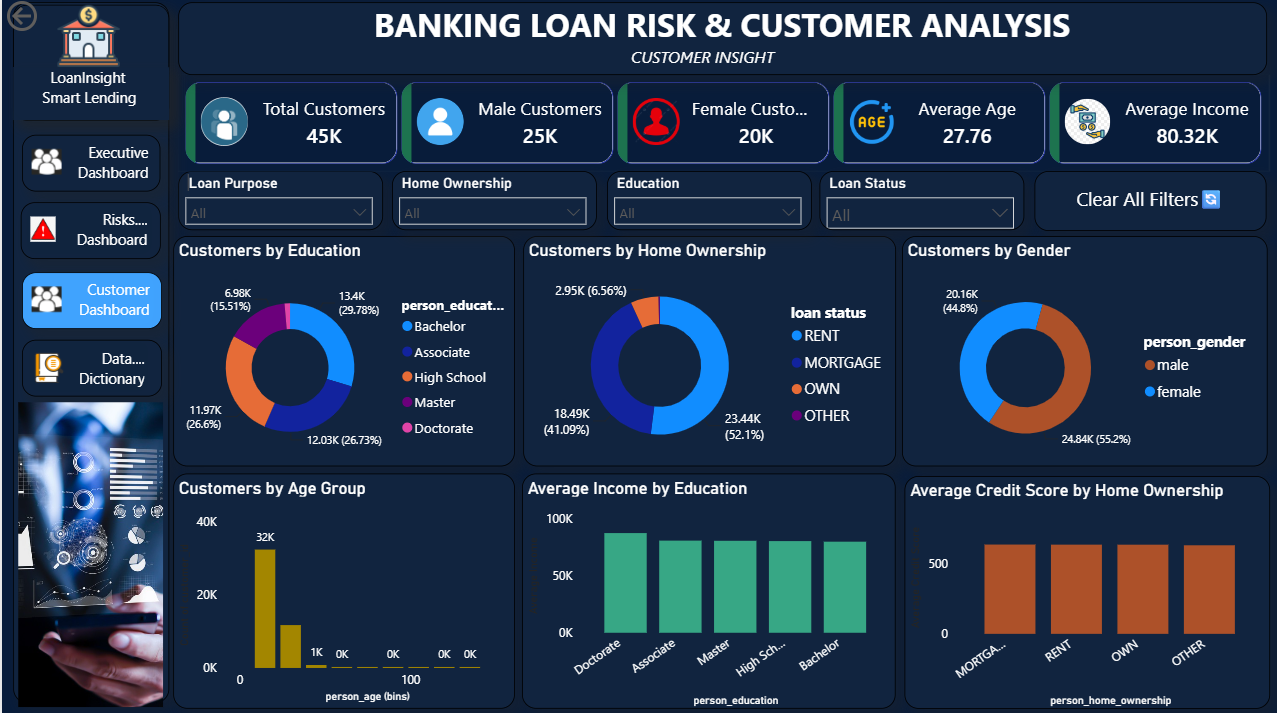

What the dashboard file says about the page in this screenshot:
{"tool":"powerbi","page":{"name":"Customer dashboard","canvas":[1280,720],"ordinal":2},"visuals":[{"type":"slicer","fields":{"Values":["final_loan_analysis.loan_intent"]},"box":[176.1,174.9,205,59.1],"z":0},{"type":"cardVisual","fields":{"Data":["final_loan_analysis.Total Customers","final_loan_analysis.Male Customers","final_loan_analysis.Female Customers","final_loan_analysis.Average Age","final_loan_analysis.Average Income"]},"box":[176.1,78.4,1091.8,96.5],"z":1000},{"type":"shape","box":[10.9,6,155.6,700.9],"z":2000},{"type":"donutChart","title":"Customers by Education","fields":{"Category":["final_loan_analysis.person_education"],"Y":["CountNonNull(final_loan_analysis.customer_id)"]},"box":[171.3,240.1,341.4,230],"z":3000},{"type":"donutChart","title":"Customers by Home Ownership","fields":{"Category":["final_loan_analysis.person_home_ownership"],"Y":["CountNonNull(final_loan_analysis.customer_id)"]},"box":[521.2,240.1,372.8,230.4],"z":4000},{"type":"clusteredColumnChart","title":"Customers by Age Group","fields":{"Y":["CountNonNull(final_loan_analysis.customer_id)"],"Category":["final_loan_analysis.person_age (bins)"]},"box":[171.3,477.8,341.4,235.3],"z":5000},{"type":"slicer","fields":{"Values":["final_loan_analysis.person_home_ownership"]},"box":[389.7,174.9,205,59.1],"z":6000},{"type":"slicer","fields":{"Values":["final_loan_analysis.person_education"]},"box":[604.4,174.9,205.1,59.1],"z":7000},{"type":"slicer","fields":{"Values":["final_loan_analysis.loan_status"]},"box":[818,174.9,205,59.1],"z":8000},{"type":"actionButton","box":[1032.7,174.9,231.6,60.3],"z":9000},{"type":"shape","box":[10.9,8.4,155.6,115.8],"z":10000},{"type":"image","box":[44.6,8.4,83.2,62.7],"z":11000},{"type":"textbox","box":[10.9,71.2,155.6,53.1],"z":12000},{"type":"actionButton","box":[20.5,138.7,138.7,56.7],"z":13000},{"type":"actionButton","box":[19.3,206.3,139.9,56.7],"z":14000},{"type":"actionButton","box":[20.5,276.3,139.9,56.7],"z":15000},{"type":"actionButton","box":[20.5,343.8,139.9,56.7],"z":16000},{"type":"textbox","box":[176.2,6.2,1088.8,72.5],"z":17000},{"type":"image","box":[16.2,406.2,147,305],"z":18000},{"type":"donutChart","title":"Customers by Gender","fields":{"Y":["CountNonNull(final_loan_analysis.customer_id)"],"Category":["final_loan_analysis.person_gender"]},"box":[900,240.1,365.6,230.4],"z":19000},{"type":"clusteredColumnChart","title":"Average Income by Education","fields":{"Category":["final_loan_analysis.person_education"],"Y":["final_loan_analysis.Average Income"]},"box":[520,477.8,374,235.3],"z":20000},{"type":"actionButton","box":[0,0,100,40],"z":21000},{"type":"clusteredColumnChart","title":"Average Credit Score by Home Ownership","fields":{"Category":["final_loan_analysis.person_home_ownership"],"Y":["final_loan_analysis.Average Credit Score"]},"box":[902.4,480.2,365.6,232.8],"z":22000}]}

Visuals, with their boxes on the page's 1280x720 design canvas (x1, y1, x2, y2). These are canvas units, not pixel positions in the 1277x713 screenshot, which may show the page scaled, cropped or inside an application window:
slicer - final_loan_analysis.loan_intent: (176, 175, 381, 234)
cardVisual - final_loan_analysis.Total Customers x final_loan_analysis.Male Customers: (176, 78, 1268, 175)
shape: (11, 6, 166, 707)
"Customers by Education" donutChart: (171, 240, 513, 470)
"Customers by Home Ownership" donutChart: (521, 240, 894, 470)
"Customers by Age Group" clusteredColumnChart: (171, 478, 513, 713)
slicer - final_loan_analysis.person_home_ownership: (390, 175, 595, 234)
slicer - final_loan_analysis.person_education: (604, 175, 810, 234)
slicer - final_loan_analysis.loan_status: (818, 175, 1023, 234)
actionButton: (1033, 175, 1264, 235)
shape: (11, 8, 166, 124)
image: (45, 8, 128, 71)
textbox: (11, 71, 166, 124)
actionButton: (20, 139, 159, 195)
actionButton: (19, 206, 159, 263)
actionButton: (20, 276, 160, 333)
actionButton: (20, 344, 160, 400)
textbox: (176, 6, 1265, 79)
image: (16, 406, 163, 711)
"Customers by Gender" donutChart: (900, 240, 1266, 470)
"Average Income by Education" clusteredColumnChart: (520, 478, 894, 713)
actionButton: (0, 0, 100, 40)
"Average Credit Score by Home Ownership" clusteredColumnChart: (902, 480, 1268, 713)
